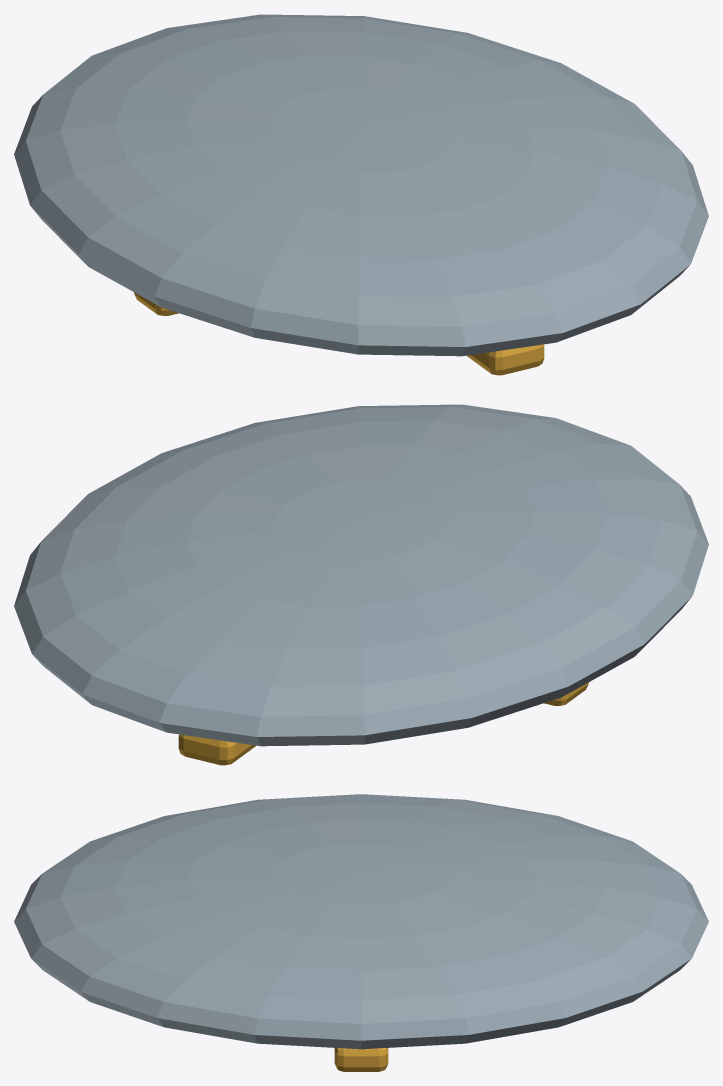
The model's file is shield.glb.
3 views of the same model, one above another, from view 1: azimuth 30°, elevation 25°; view 2: azimuth 150°, elevation 25°; view 3: azimuth 270°, elevation 25° (orthographic). The views are drawn at different scales.
Parts seen in each view (by area): view 1: Shield_Body, Shield_Rim_V; view 2: Shield_Body, Shield_Rim_V; view 3: Shield_Body, Shield_Rim_H.
Boxes of the visible parts, bbox=[...] form: Shield_Body: bbox=[14, 14, 708, 356]; Shield_Rim_V: bbox=[467, 344, 544, 375]; Shield_Body: bbox=[14, 404, 708, 746]; Shield_Rim_V: bbox=[178, 734, 255, 765]; Shield_Body: bbox=[14, 794, 708, 1049]; Shield_Rim_H: bbox=[334, 1048, 388, 1071].
Size of the model in its own units: 0.94 by 0.3 by 1.16.
